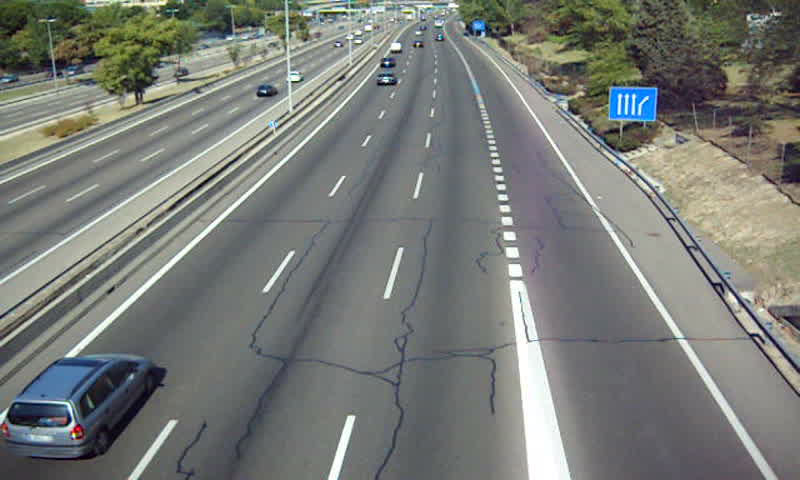car: (2, 354, 150, 457), (376, 71, 397, 87)
